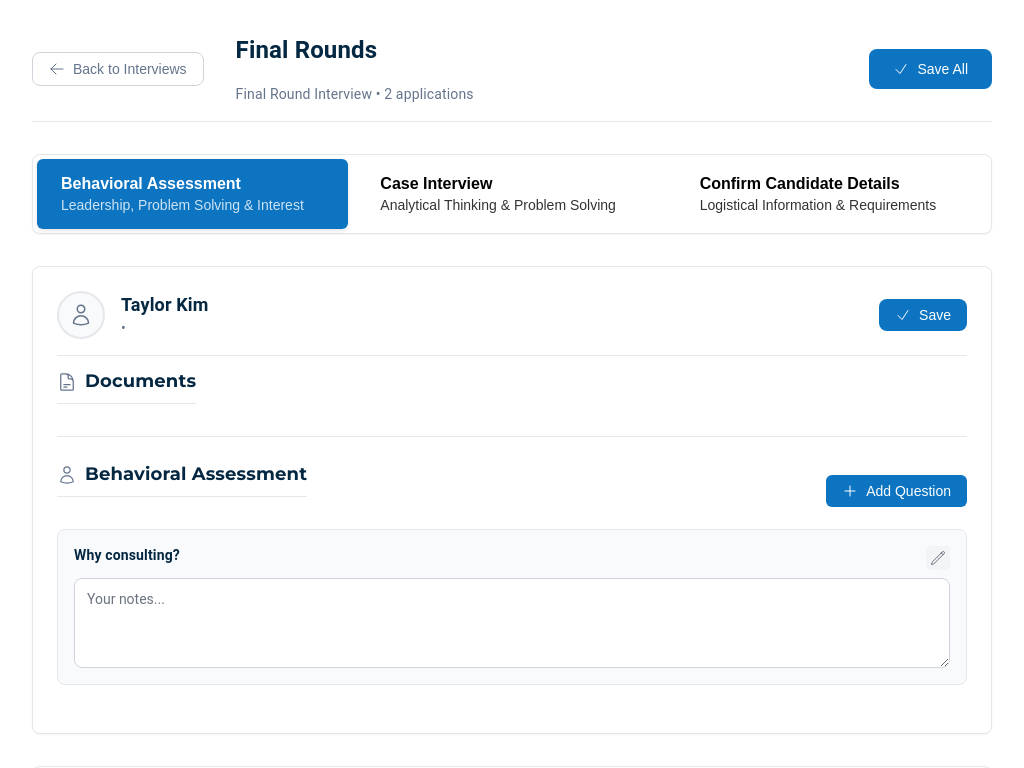
Test: final round decision prompt › never sends a decision with the notes, so a note save cannot clear one
The image size is (1024, 768).
Click the button "Save All": (931, 68) top-left (869, 48), bottom-right (992, 88)
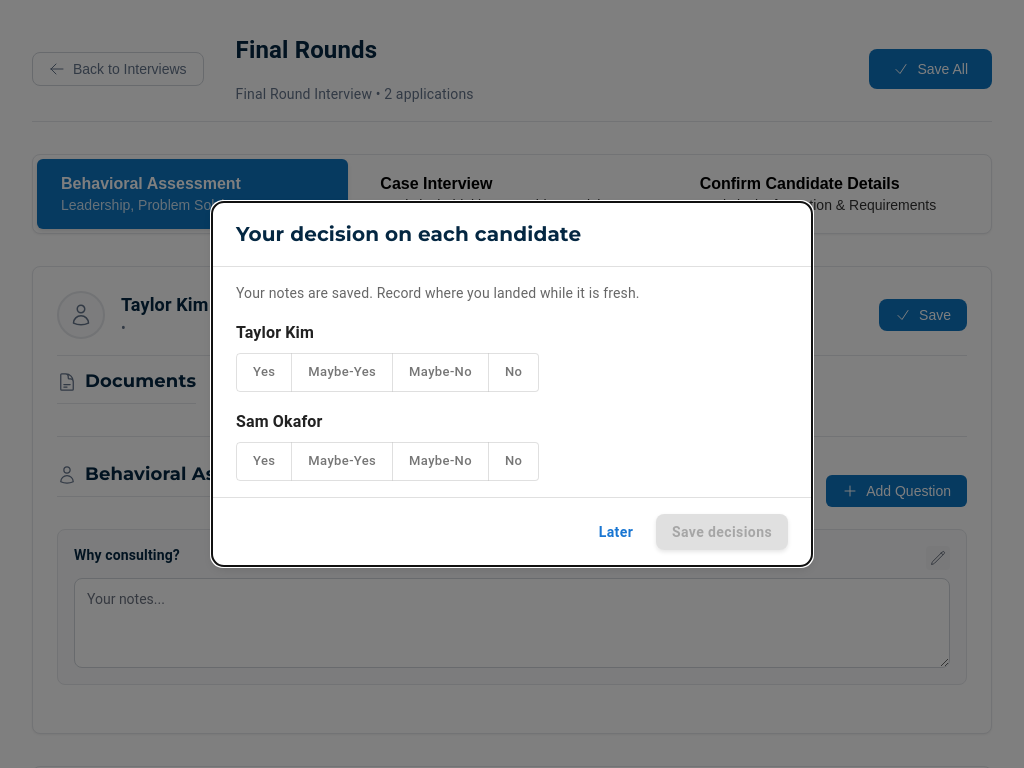
Result: the dialog is shown at top-left (212, 202), bottom-right (812, 566)
